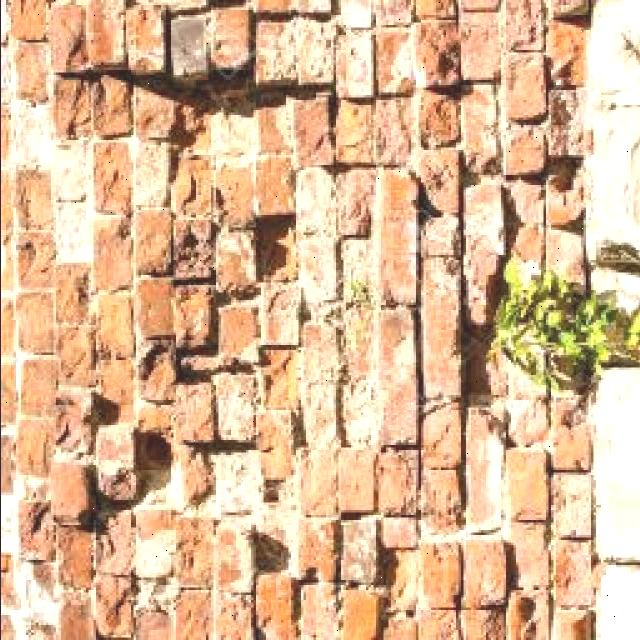crack: (4, 16, 42, 614), (198, 107, 280, 198), (585, 111, 640, 246), (166, 3, 258, 80), (49, 1, 128, 74), (294, 229, 344, 307), (11, 104, 58, 185), (293, 165, 341, 240), (132, 138, 177, 211), (127, 4, 172, 74), (52, 196, 96, 267), (48, 141, 92, 207), (160, 3, 254, 21)
dampness: (137, 77, 310, 629), (16, 14, 162, 593), (31, 1, 585, 104), (326, 7, 473, 174)
vegetation: (486, 246, 638, 397), (230, 179, 303, 314), (503, 255, 530, 294), (347, 278, 377, 309)
